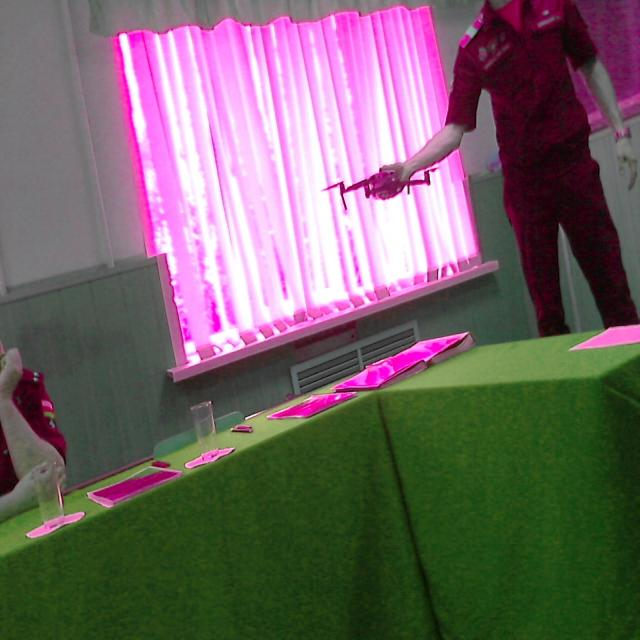drone: (324, 154, 440, 212)
